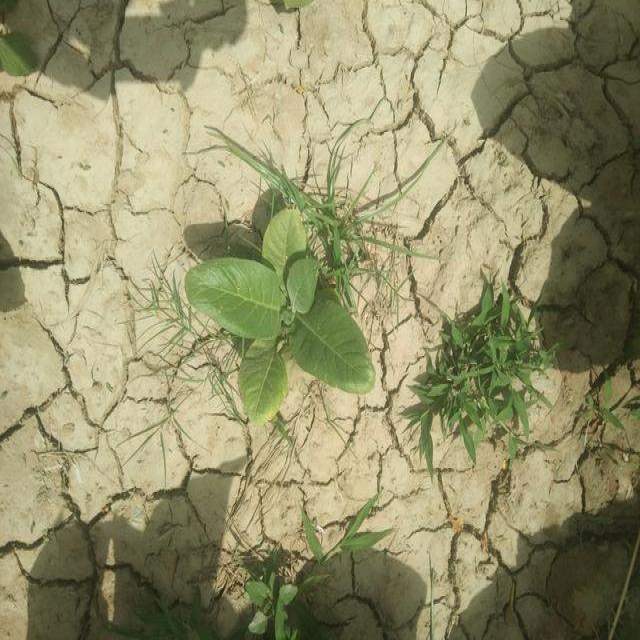crop: (200, 211, 376, 415)
